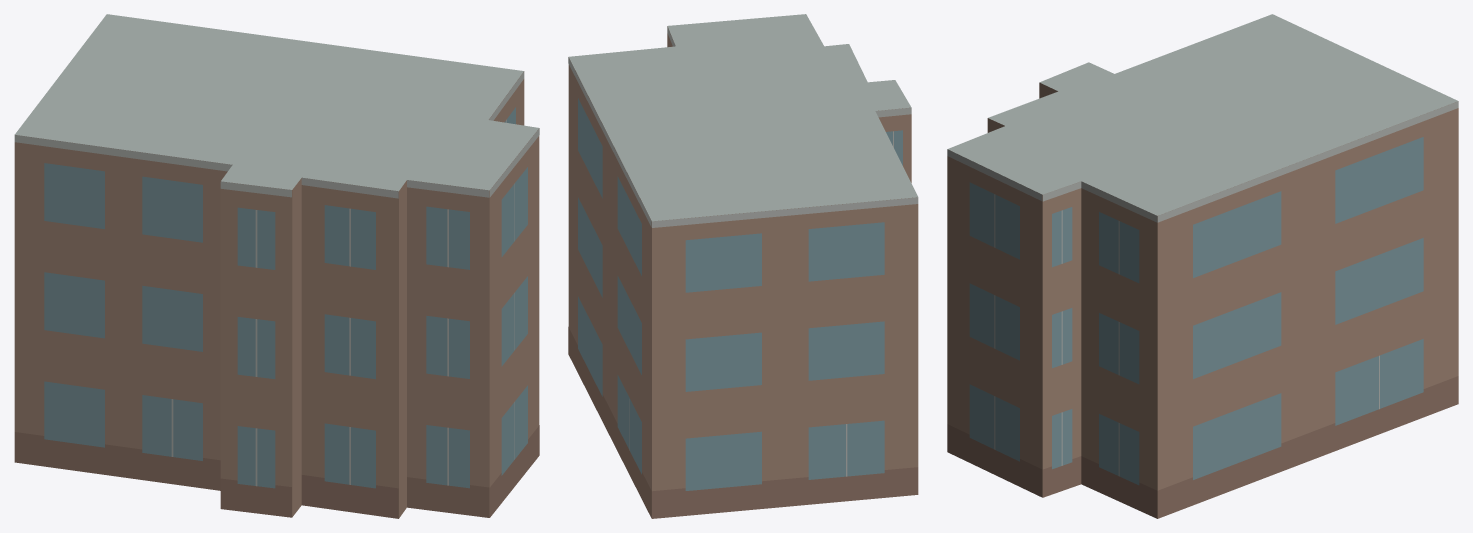
Rendered from survey-upis-32470419.glb.
3 renders of one model, left to right at view 1: azimuth 30°, elevation 25°; view 2: azimuth 150°, elevation 25°; view 3: azimuth 270°, elevation 25°, orthographic. The views are drawn at different scales.
Parts seen in each view (by area): view 1: survey-upis-32470419.tmp; view 2: survey-upis-32470419.tmp; view 3: survey-upis-32470419.tmp.
Part boxes in pixels (x1=…): survey-upis-32470419.tmp: x1=14, y1=14, x2=539, y2=518; survey-upis-32470419.tmp: x1=568, y1=14, x2=918, y2=518; survey-upis-32470419.tmp: x1=947, y1=14, x2=1458, y2=518.
Size of the model in its own units: 15.44 by 10.8 by 16.52.
